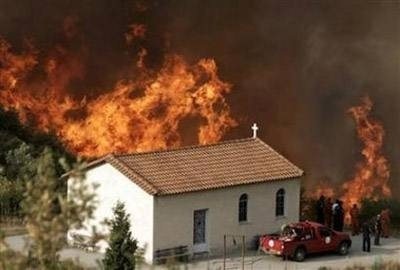fire: (5, 24, 241, 157), (328, 94, 396, 219)
